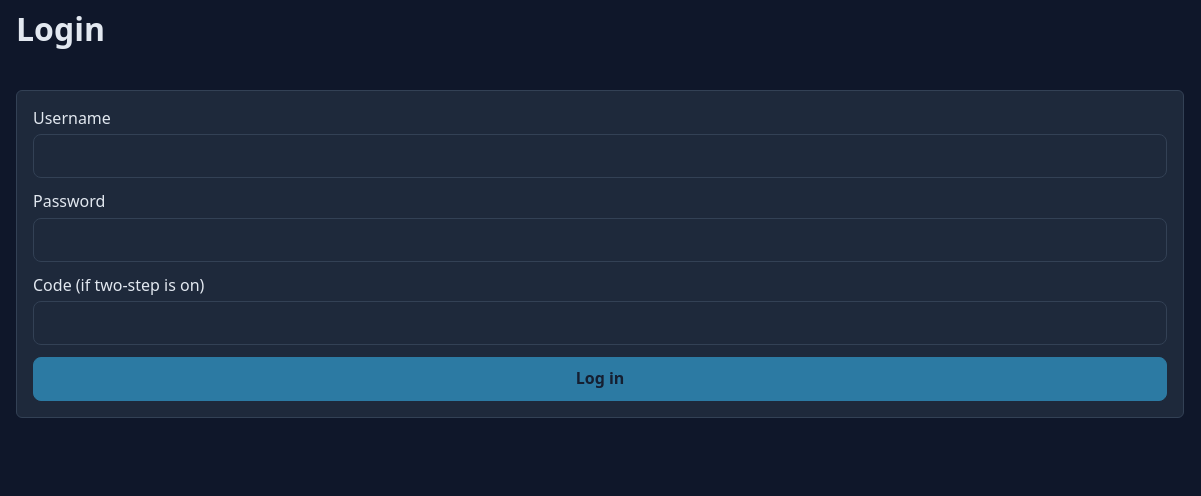
login page (test 5) › shows the server's 429 message and clears the password
Type "stephen" into the field labelled "Username" at (600, 156), box [33,134,1167,178]
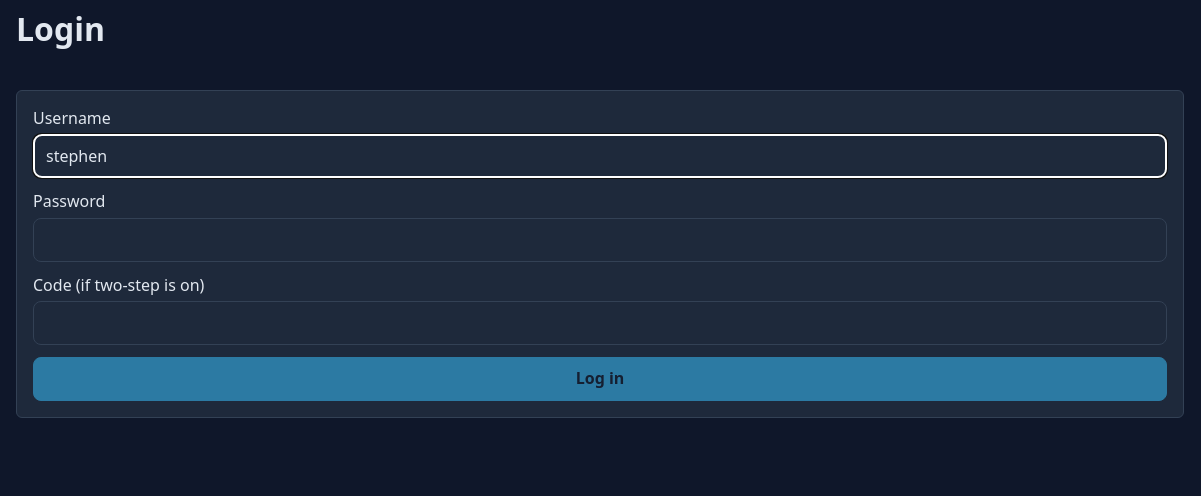
Type "secret-pw" into the password field labelled "Password" at (600, 240), box [33,218,1167,262]
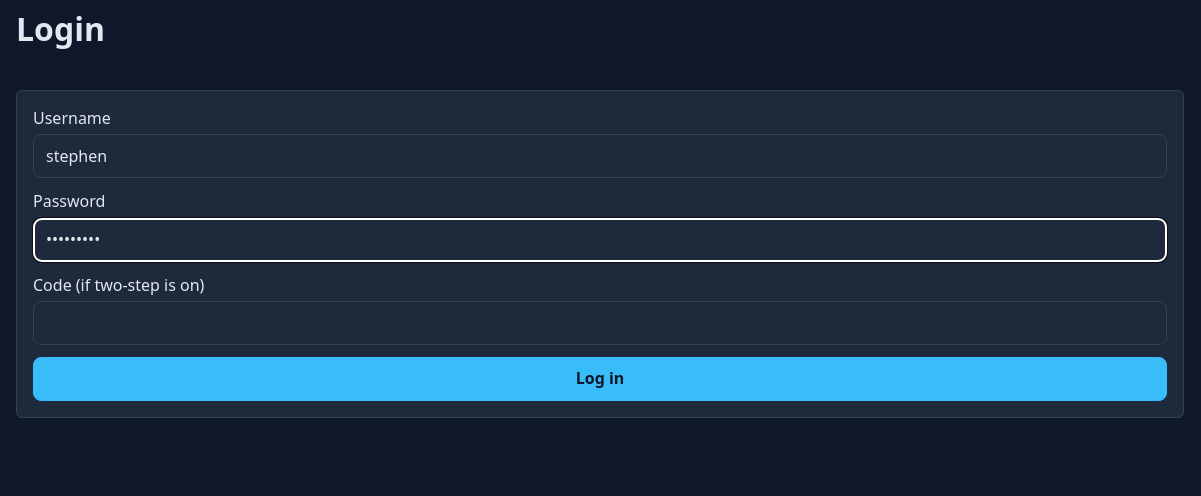
Click the button "Log in" at (600, 379), box [33,357,1167,401]
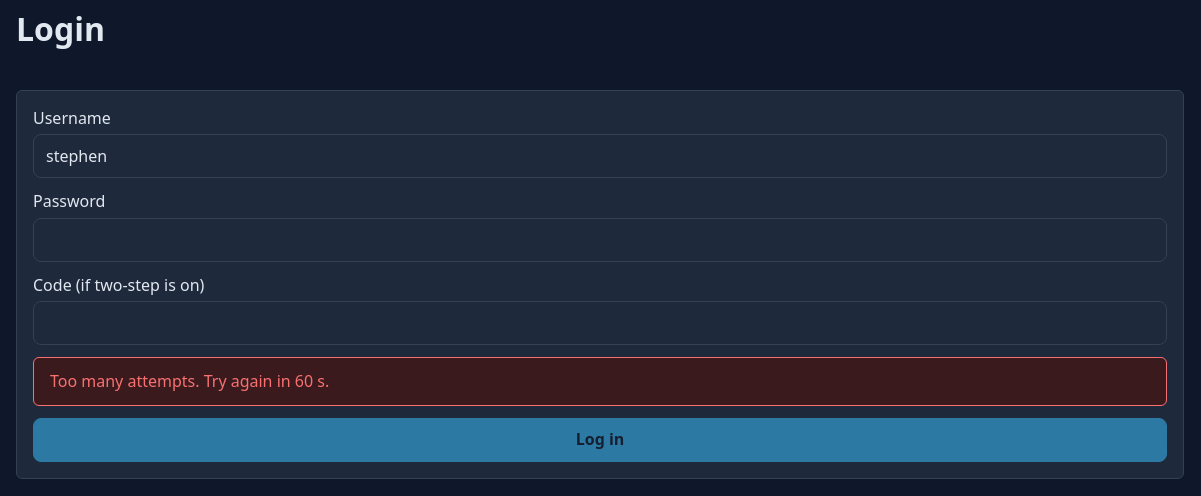
Expected: the message reads "Too many attempts. Try again in 60 s.", [50,370,329,392]
Expected: the password field labelled "Password" is empty, [33,218,1167,262]
